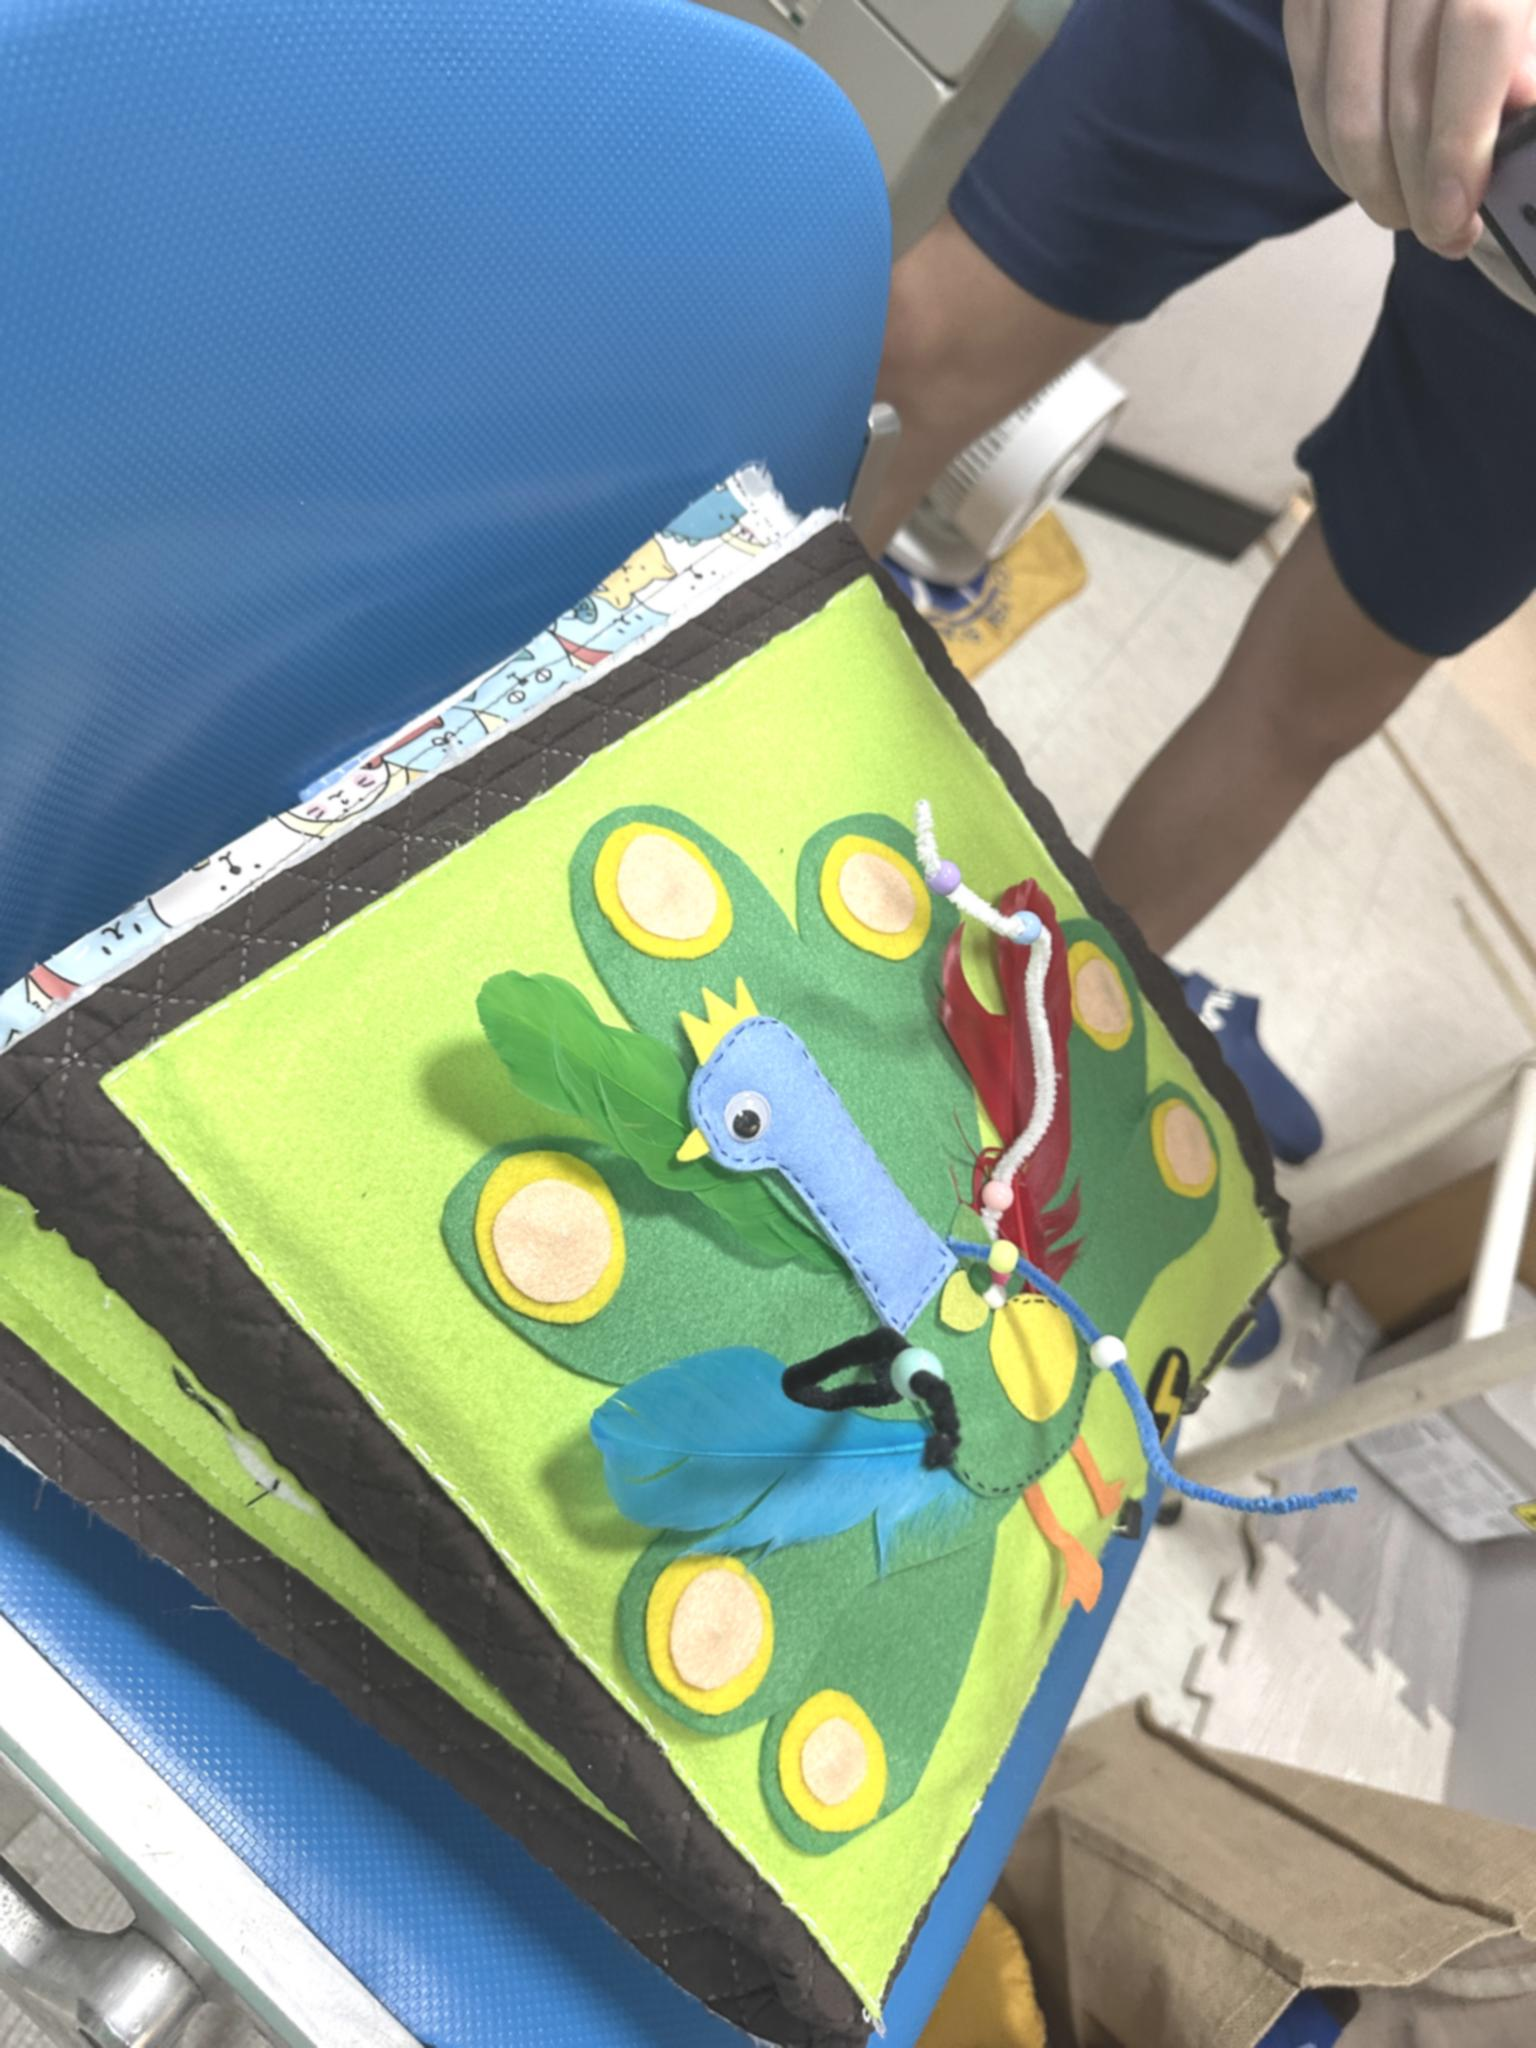bead: (879, 1340, 958, 1408), (916, 845, 973, 910), (1007, 900, 1068, 958), (1079, 1327, 1139, 1377), (976, 1230, 1026, 1277), (986, 1168, 1018, 1218)
